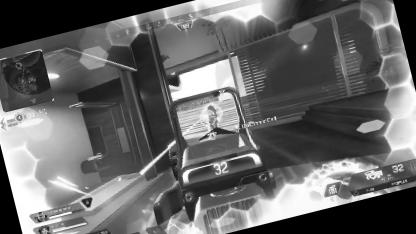Target: (204, 102, 220, 130)
